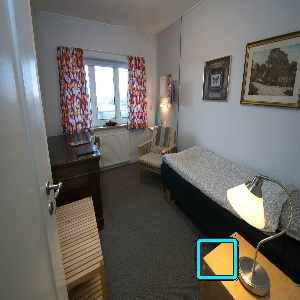square: (195, 235, 241, 282)
